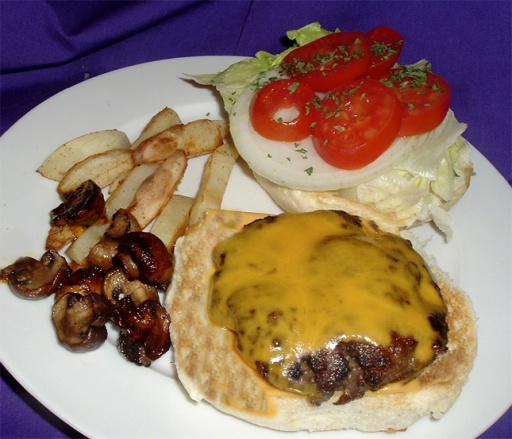background: (0, 13, 382, 297)
